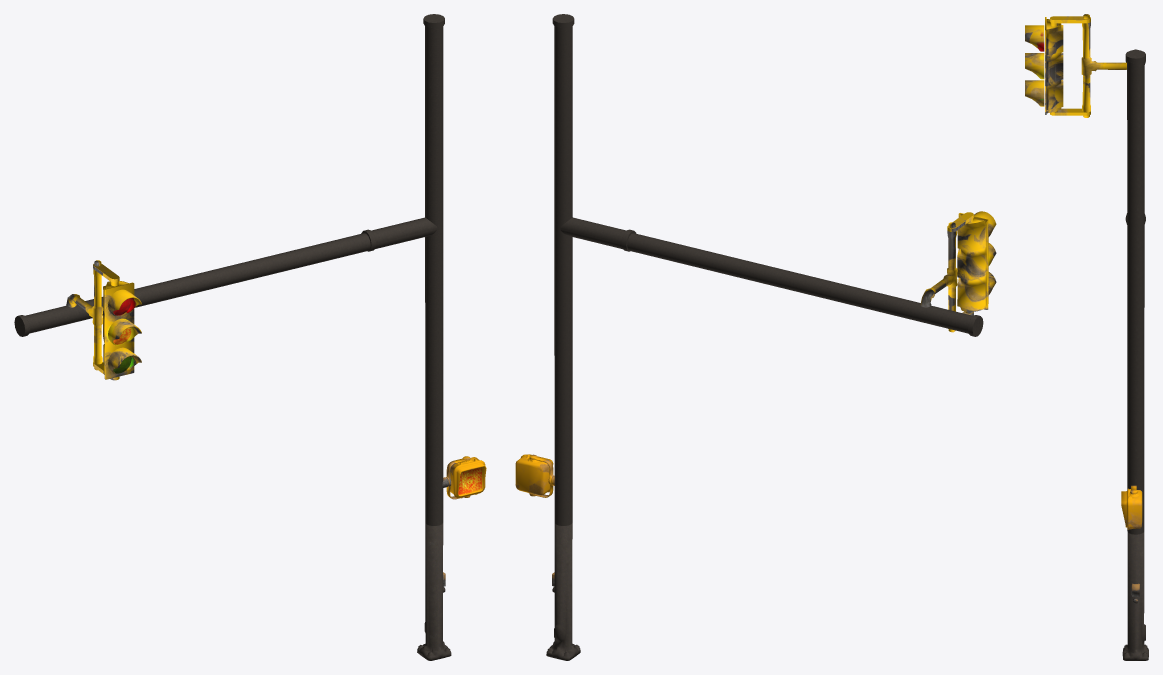
File: traffic_light.obj
The picture shows the model from 3 angles, left to right: view 1: azimuth 30°, elevation 25°; view 2: azimuth 150°, elevation 25°; view 3: azimuth 270°, elevation 25°; orthographic projection. The views are drawn at different scales.
Parts seen in each view (by area): view 1: traffic_light_signal_metal, traffic_light_signal; view 2: traffic_light_signal_metal, traffic_light_signal; view 3: traffic_light_signal_metal, traffic_light_signal.
Boxes of the visible parts, x1,y1,x2,y2 form: traffic_light_signal_metal: (14, 14, 444, 525); traffic_light_signal: (66, 260, 486, 660); traffic_light_signal_metal: (552, 14, 983, 525); traffic_light_signal: (515, 211, 996, 660); traffic_light_signal_metal: (1125, 49, 1145, 534); traffic_light_signal: (1025, 14, 1148, 660).
Bounding box in the file's own units: 310 × 408 × 76.22.
2 materials, 2 textured.
